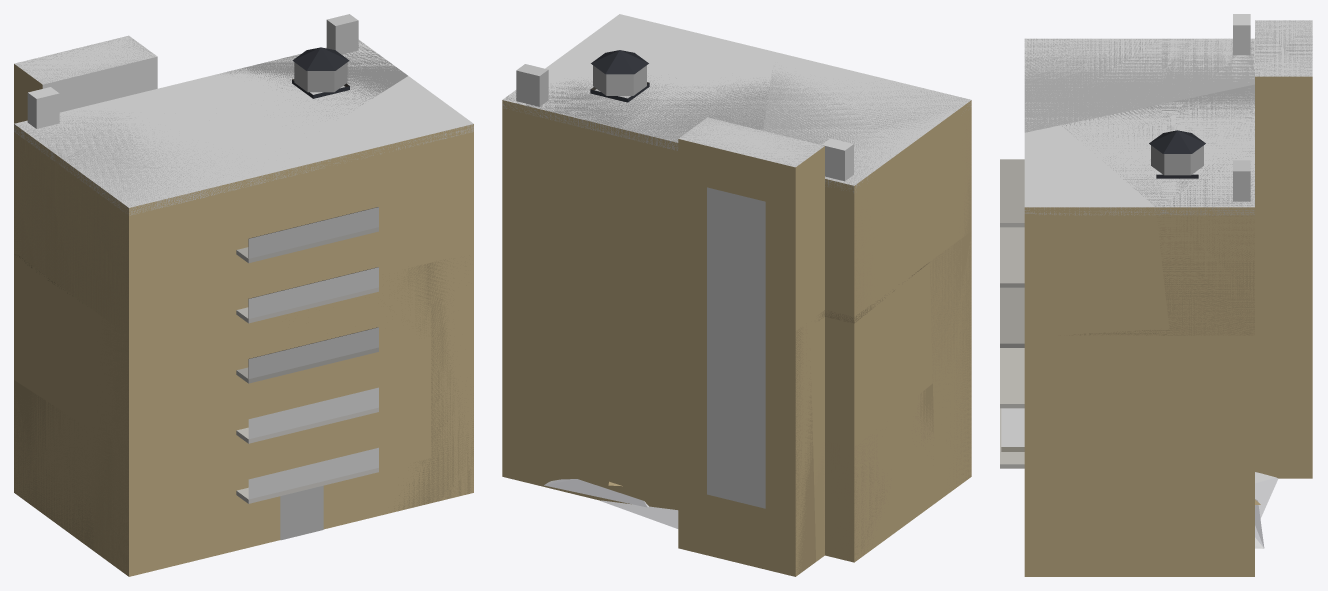
Rendered from bld_apartment_a.glb.
3 views of the same model, side by side, from view 1: azimuth 30°, elevation 25°; view 2: azimuth 150°, elevation 25°; view 3: azimuth 270°, elevation 25° (orthographic). The views are drawn at different scales.
Visible parts, largest first — view 1: damaged, intact, chunk_04, chunk_08, chunk_00, chunk_05, chunk_09, chunk_01, chunk_10, chunk_06, chunk_02, chunk_11; view 2: damaged, chunk_10, chunk_06, chunk_02, intact, chunk_03, chunk_07, chunk_11, chunk_08, chunk_04, chunk_00, chunk_09 (+1 smaller); view 3: damaged, intact, chunk_09, chunk_05, chunk_01, chunk_10, chunk_07, chunk_11, chunk_03, chunk_02, chunk_06, chunk_08 (+1 smaller).
Boxes of the visible parts, box(x1,y1,x2,y2) form: damaged: box(14, 14, 473, 576); intact: box(14, 43, 473, 575); chunk_04: box(60, 248, 304, 447); chunk_08: box(60, 115, 304, 297); chunk_00: box(69, 405, 304, 576); chunk_05: box(305, 214, 473, 404); chunk_09: box(239, 76, 473, 254); chunk_01: box(305, 364, 473, 529); chunk_10: box(14, 35, 232, 246); chunk_06: box(14, 214, 60, 381); chunk_02: box(14, 364, 39, 502); chunk_11: box(190, 40, 399, 113); damaged: box(502, 50, 971, 576); chunk_10: box(674, 108, 901, 291); chunk_06: box(674, 234, 901, 444); chunk_02: box(674, 387, 901, 576); intact: box(504, 14, 971, 575); chunk_03: box(502, 346, 674, 509); chunk_07: box(502, 193, 674, 386); chunk_11: box(502, 65, 719, 233); chunk_08: box(725, 56, 971, 242); chunk_04: box(901, 192, 971, 395); chunk_00: box(901, 347, 971, 527); chunk_09: box(550, 14, 791, 106); damaged: box(1000, 14, 1312, 576); intact: box(1000, 38, 1254, 576); chunk_09: box(1024, 124, 1161, 297); chunk_05: box(1024, 297, 1161, 447); chunk_01: box(1024, 447, 1161, 576); chunk_10: box(1162, 20, 1312, 198); chunk_07: box(1162, 297, 1254, 447); chunk_11: box(1162, 124, 1254, 297); chunk_03: box(1162, 447, 1254, 576); chunk_02: box(1255, 349, 1312, 478); chunk_06: box(1255, 198, 1312, 349); chunk_08: box(1024, 38, 1161, 124).
Size of the model in its own units: 18 by 20.36 by 14.15.
